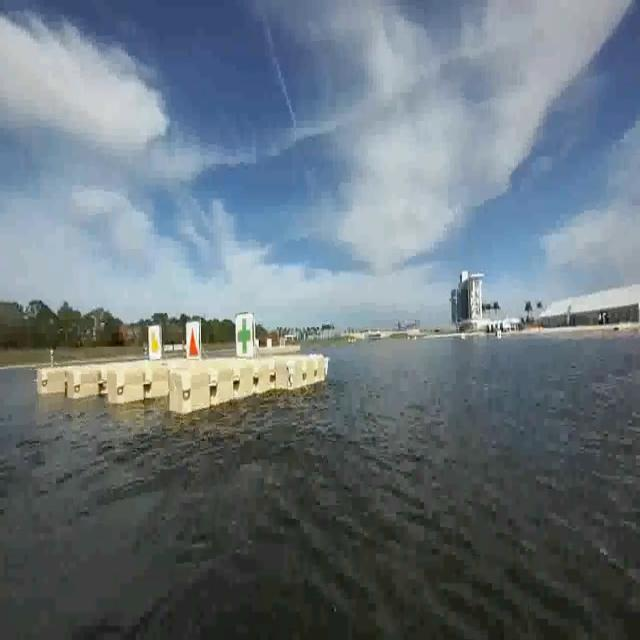blue-cross: (237, 311, 260, 361)
red-dot: (184, 317, 205, 356)
yellow-duck: (147, 326, 163, 364)
